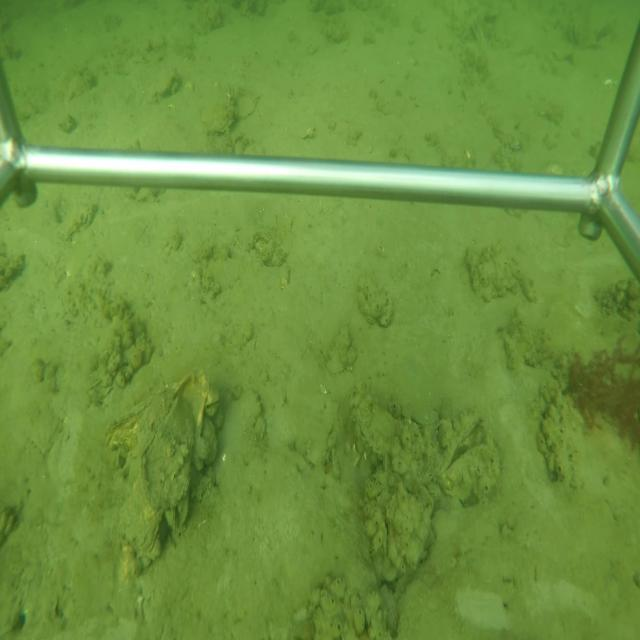Oyster-Closed: (147, 400, 196, 513), (124, 463, 166, 561)
Oyster-Indeterminate: (202, 82, 239, 141), (109, 273, 153, 318)
Oyster-Open: (436, 408, 502, 508)
